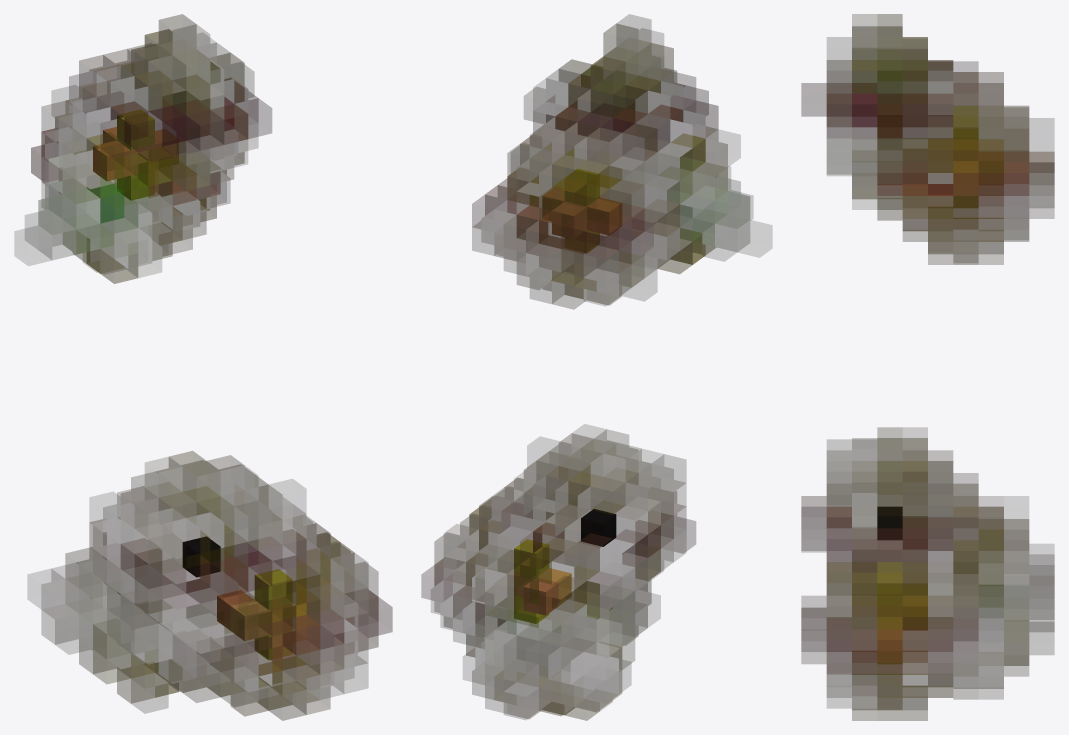
Rendered from iter_10.obj.
3 views of the same model, side by side, from view 1: azimuth 30°, elevation 25°; view 2: azimuth 150°, elevation 25°; view 3: azimuth 270°, elevation 25° (orthographic). The views are drawn at different scales.
Visible parts, largest first — view 1: iter_10; view 2: iter_10; view 3: iter_10.
Part boxes in pixels (x1=…): iter_10: x1=15, y1=14, x2=392, y2=720; iter_10: x1=421, y1=14, x2=771, y2=720; iter_10: x1=801, y1=14, x2=1054, y2=720.
Size of the model in its own units: 1.4 by 2.8 by 1.
